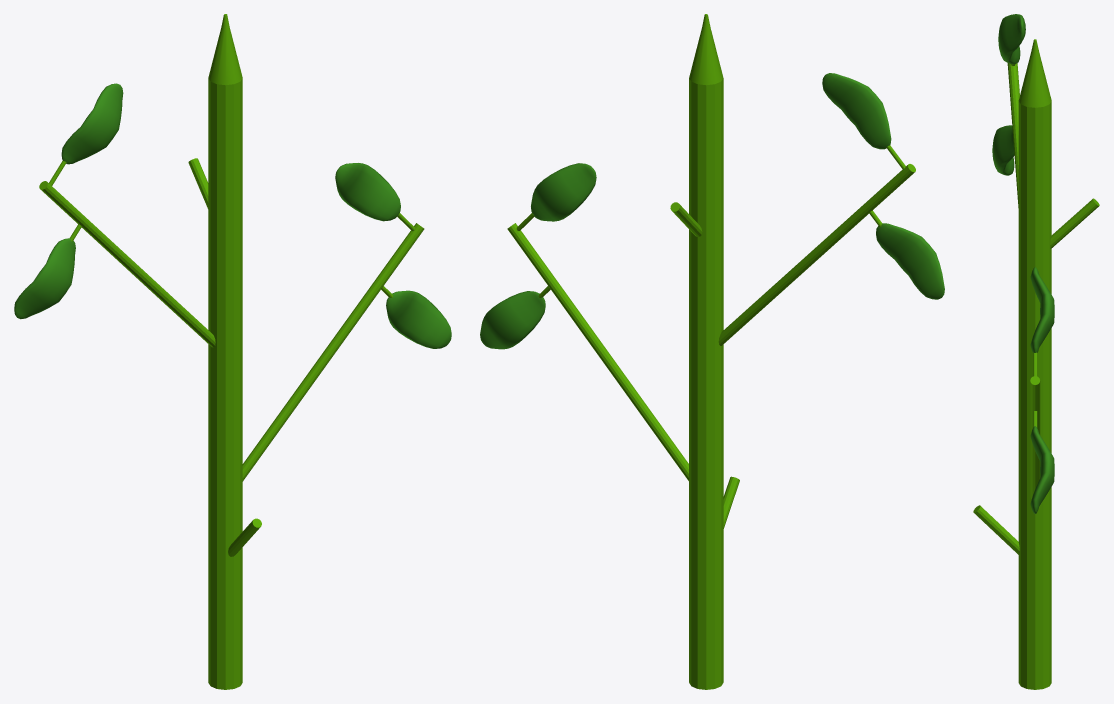
Rendered from coca1.fbx.
3 renders of one model, left to right at view 1: azimuth 30°, elevation 25°; view 2: azimuth 150°, elevation 25°; view 3: azimuth 270°, elevation 25°, orthographic. The views are drawn at different scales.
Parts seen in each view (by area): view 1: Stalk, Branch3, CocaLeaf1, CocaLeaf2, CocaLeaf4, CocaLeaf3, Branch2; view 2: Stalk, Branch3, Branch2, CocaLeaf3, CocaLeaf4, CocaLeaf1, CocaLeaf2; view 3: Stalk, CocaLeaf2, CocaLeaf1, CocaLeaf4, CocaLeaf3, Branch3, Branch2, Twig6, Twig5.
Part boxes in pixels (x1,y1,x2,y2): Stalk: [208, 14, 242, 689]; Branch3: [242, 223, 424, 481]; CocaLeaf1: [335, 163, 400, 221]; CocaLeaf2: [386, 290, 451, 348]; CocaLeaf4: [61, 83, 123, 164]; CocaLeaf3: [14, 238, 75, 319]; Branch2: [39, 181, 215, 347]; Stalk: [689, 14, 723, 689]; Branch3: [507, 223, 688, 480]; Branch2: [718, 164, 915, 345]; CocaLeaf3: [876, 223, 944, 299]; CocaLeaf4: [822, 73, 891, 149]; CocaLeaf1: [531, 163, 596, 221]; CocaLeaf2: [480, 291, 545, 349]; Stalk: [1018, 39, 1051, 689]; CocaLeaf2: [1030, 426, 1054, 513]; CocaLeaf1: [1030, 267, 1054, 352]; CocaLeaf4: [998, 14, 1025, 64]; CocaLeaf3: [992, 125, 1014, 175]; Branch3: [1030, 376, 1040, 498]; Branch2: [1007, 63, 1019, 207]; Twig6: [1050, 198, 1099, 248]; Twig5: [973, 505, 1019, 554].
Bounding box in the file's own units: 3.73 × 5.28 × 0.9409.
